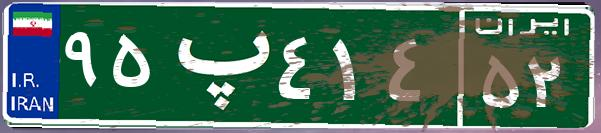1: (330, 28, 385, 110)
2: (525, 38, 570, 115)
4: (385, 28, 445, 110), (273, 28, 330, 110)
5: (475, 38, 525, 113), (110, 28, 158, 105)
9: (57, 26, 110, 107)
پ: (158, 15, 273, 115)
